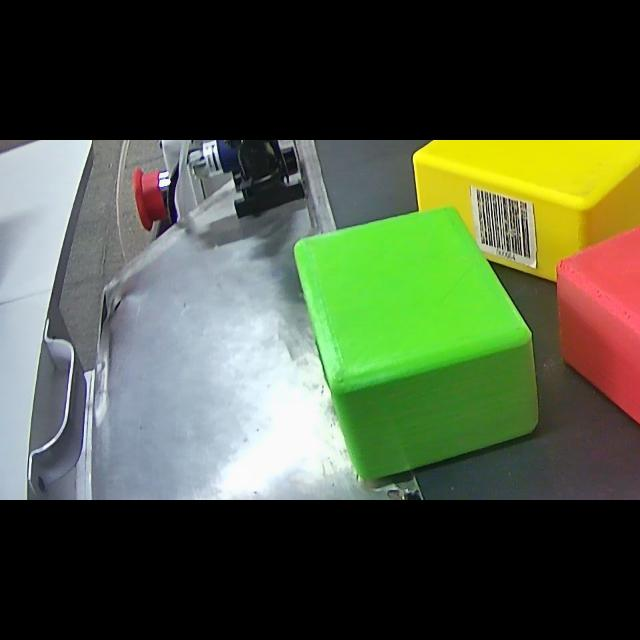greenBox: (288, 202, 544, 486)
redBox: (554, 199, 640, 497)
yellowBox: (404, 140, 640, 288)
